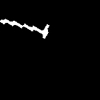half_double_crochet: (0, 19, 48, 37)
